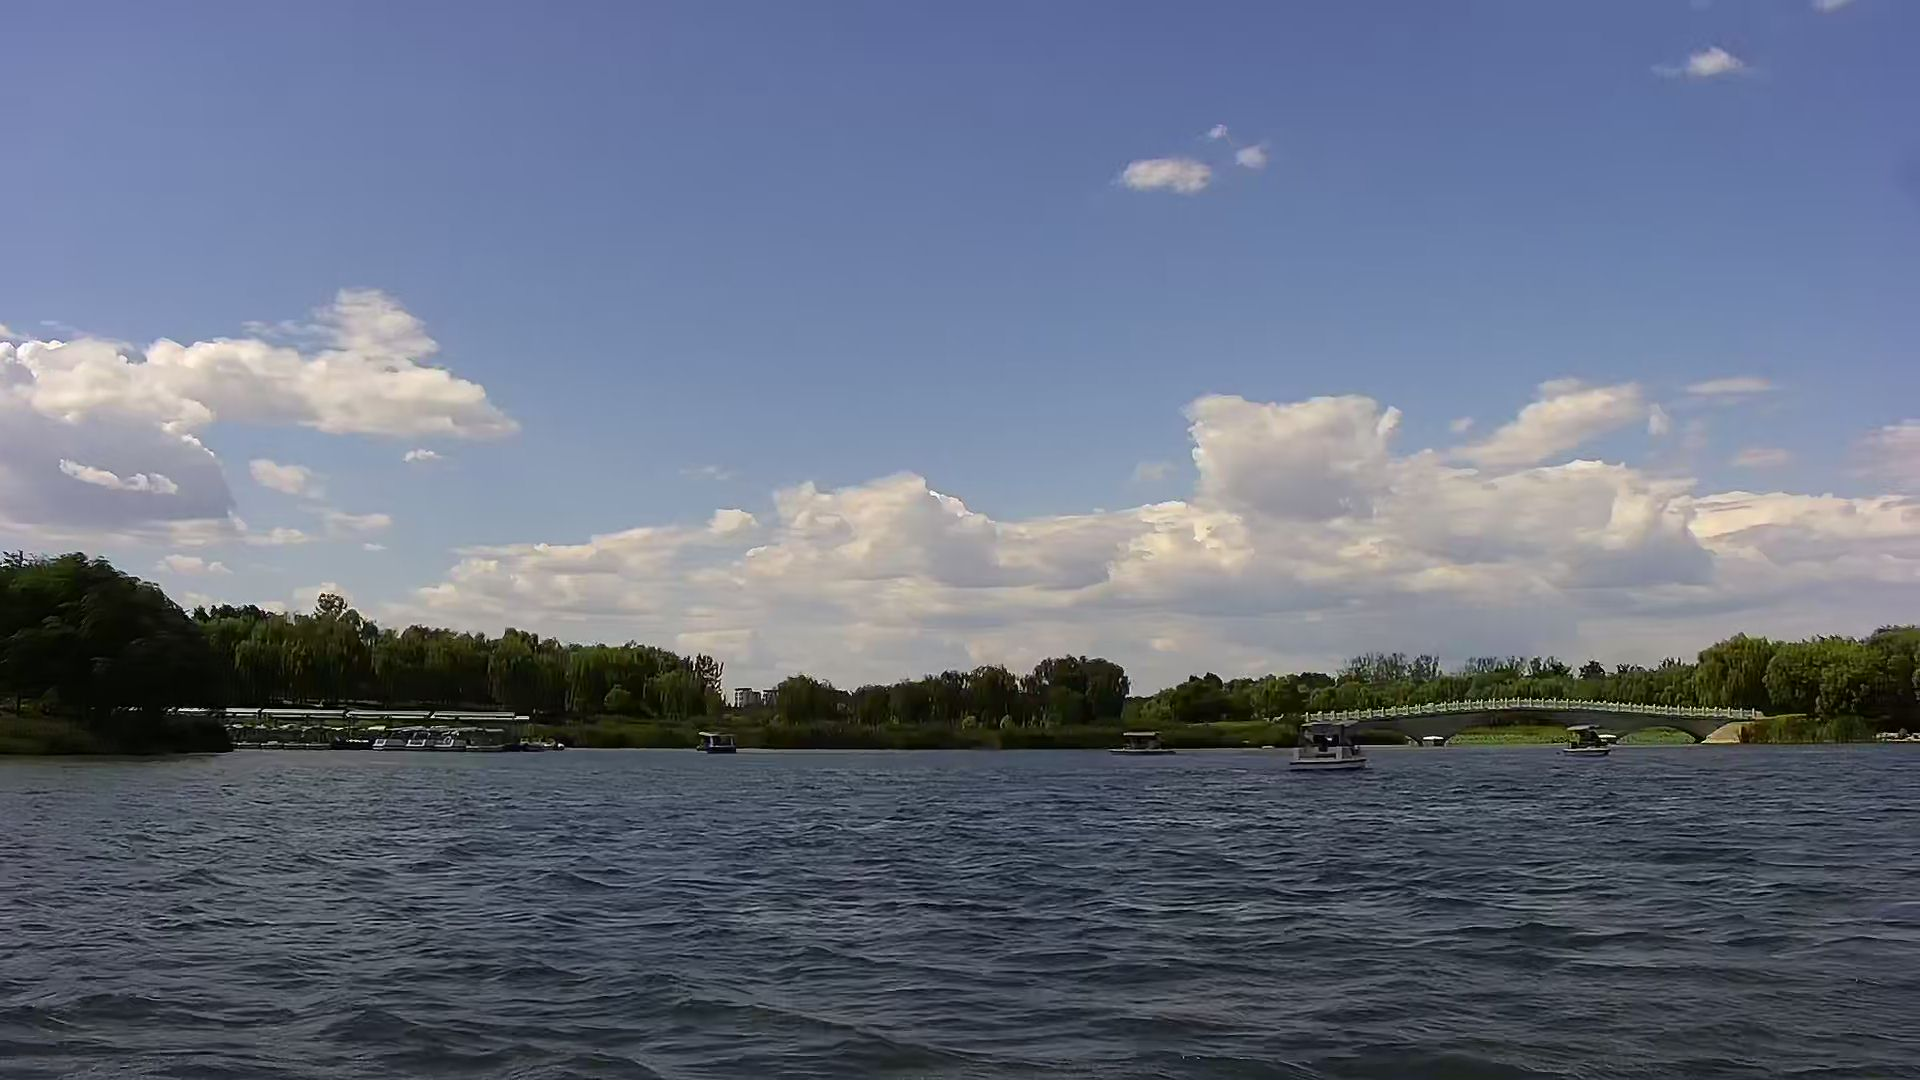boat: (1283, 713, 1381, 775), (1555, 716, 1627, 767), (1113, 728, 1178, 760), (695, 724, 749, 756)
bridge: (1295, 692, 1751, 754)
